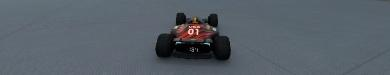Car: (154, 12, 231, 60)
